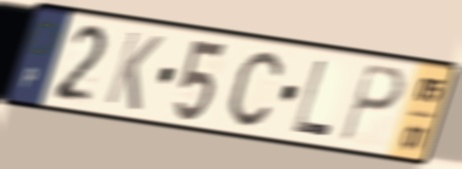2: (52, 22, 108, 108)
5: (170, 36, 232, 124)
C: (226, 48, 285, 130)
K: (101, 27, 167, 115)
L: (289, 57, 333, 141)
P: (337, 60, 407, 145)
